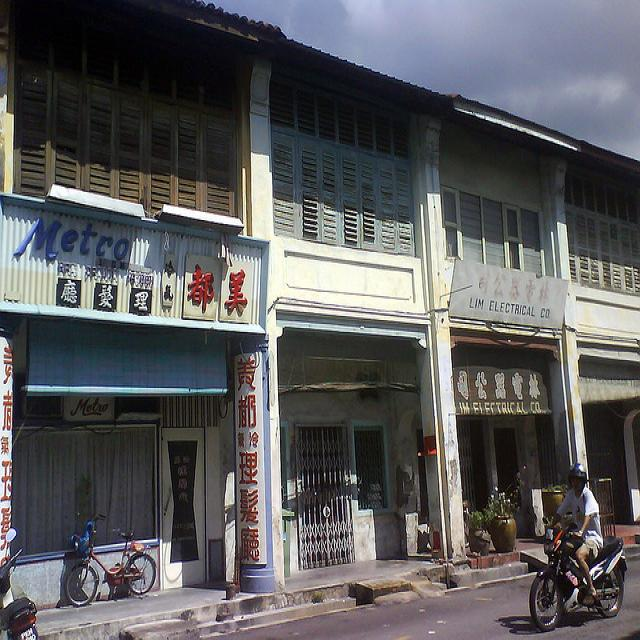motor: (528, 516, 627, 632), (0, 528, 38, 640)
